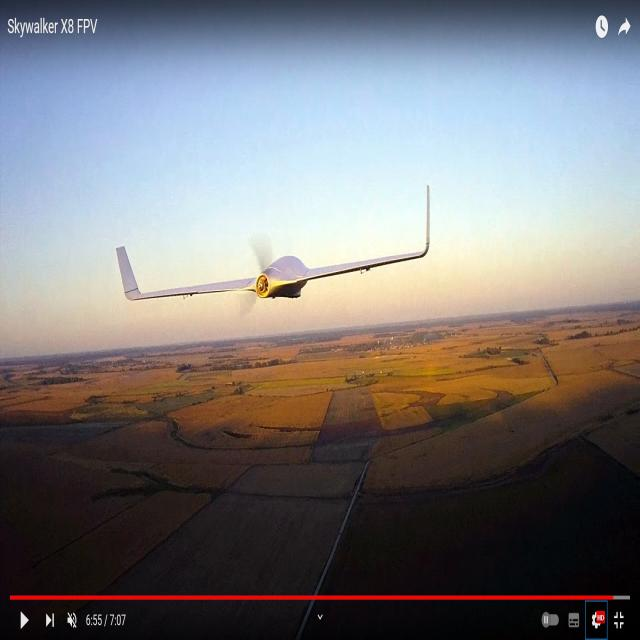iha: (114, 219, 431, 277)
